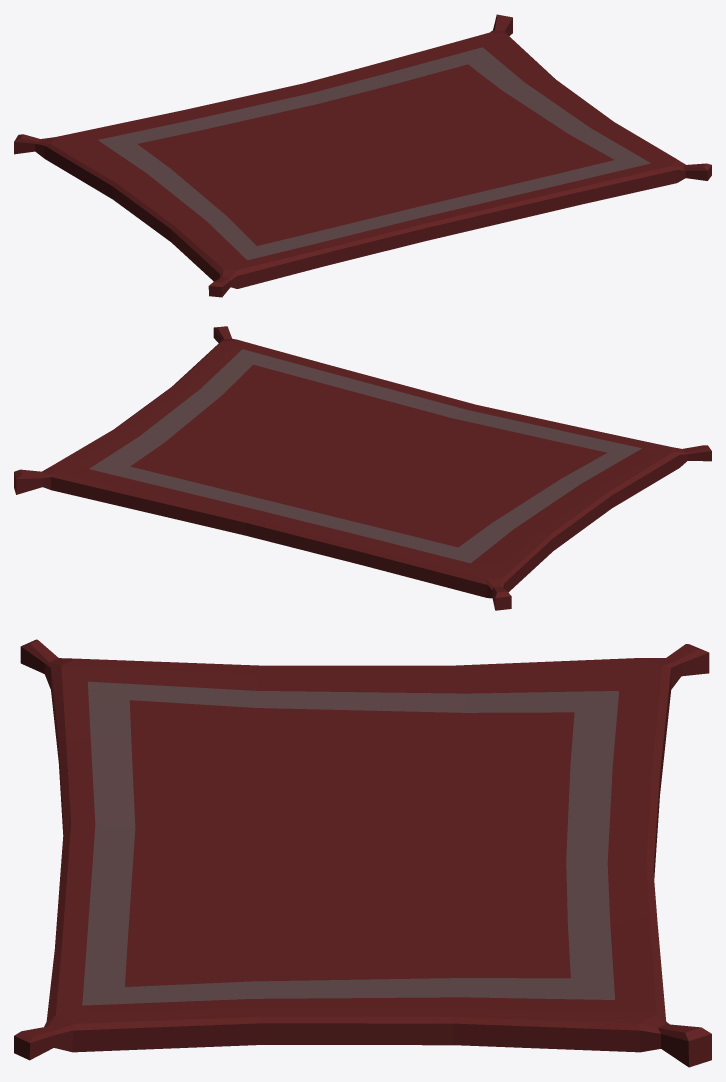
The model's file is Carpet.fbx.
3 views of the same model, one above another, from view 1: azimuth 30°, elevation 25°; view 2: azimuth 150°, elevation 25°; view 3: azimuth 270°, elevation 25° (orthographic). The views are drawn at different scales.
Parts seen in each view (by area): view 1: Carpet; view 2: Carpet; view 3: Carpet.
Boxes of the visible parts, <box> form: Carpet: <box>14,14,711,297</box>; Carpet: <box>14,326,711,610</box>; Carpet: <box>14,639,711,1067</box>.
Size of the model in its own units: 309 by 12.07 by 226.
